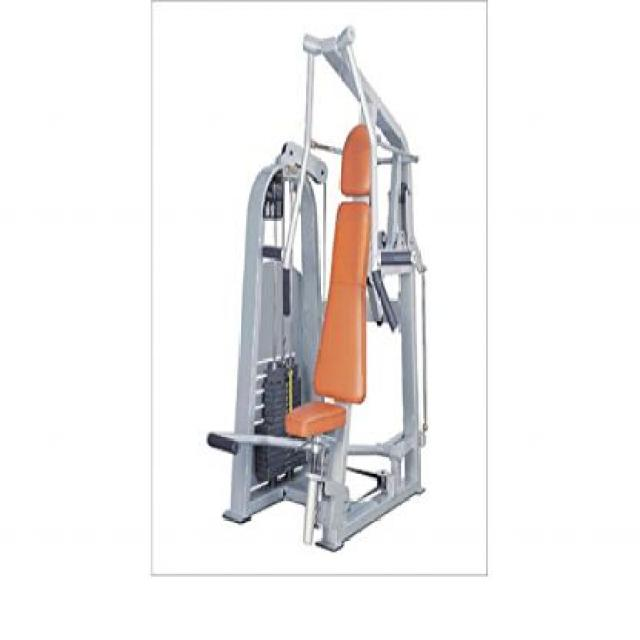Chest Press machine: (189, 21, 443, 558)
